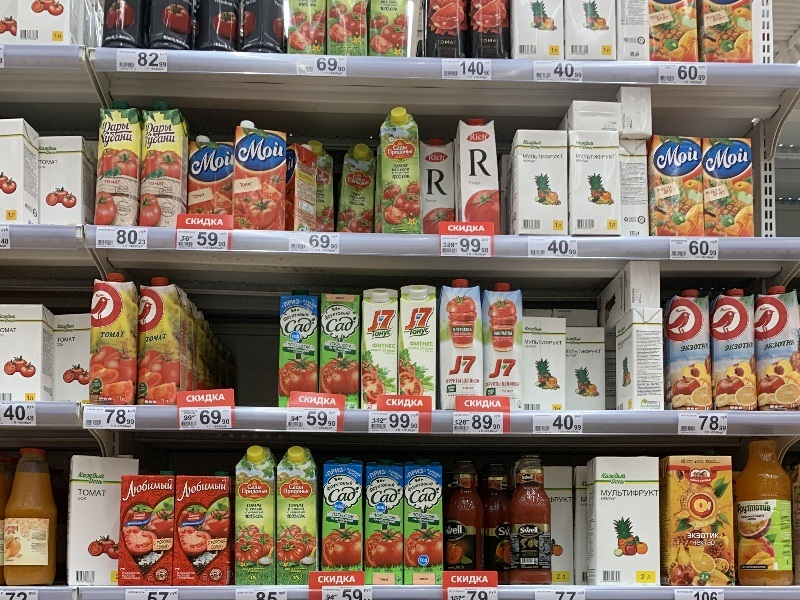juice: (659, 447, 743, 593), (229, 441, 286, 590), (169, 468, 237, 589), (272, 444, 326, 595), (87, 271, 146, 409), (90, 100, 147, 238), (747, 279, 800, 425), (135, 100, 191, 235), (435, 277, 489, 415), (118, 468, 177, 591), (231, 118, 292, 236), (135, 273, 187, 409), (699, 132, 760, 247), (402, 455, 452, 595), (711, 285, 764, 417), (645, 129, 705, 243), (666, 285, 719, 414), (319, 455, 369, 591), (360, 456, 411, 589), (318, 286, 368, 416), (377, 106, 425, 241), (396, 280, 442, 416), (459, 114, 507, 242), (278, 284, 323, 411), (362, 286, 402, 414)
